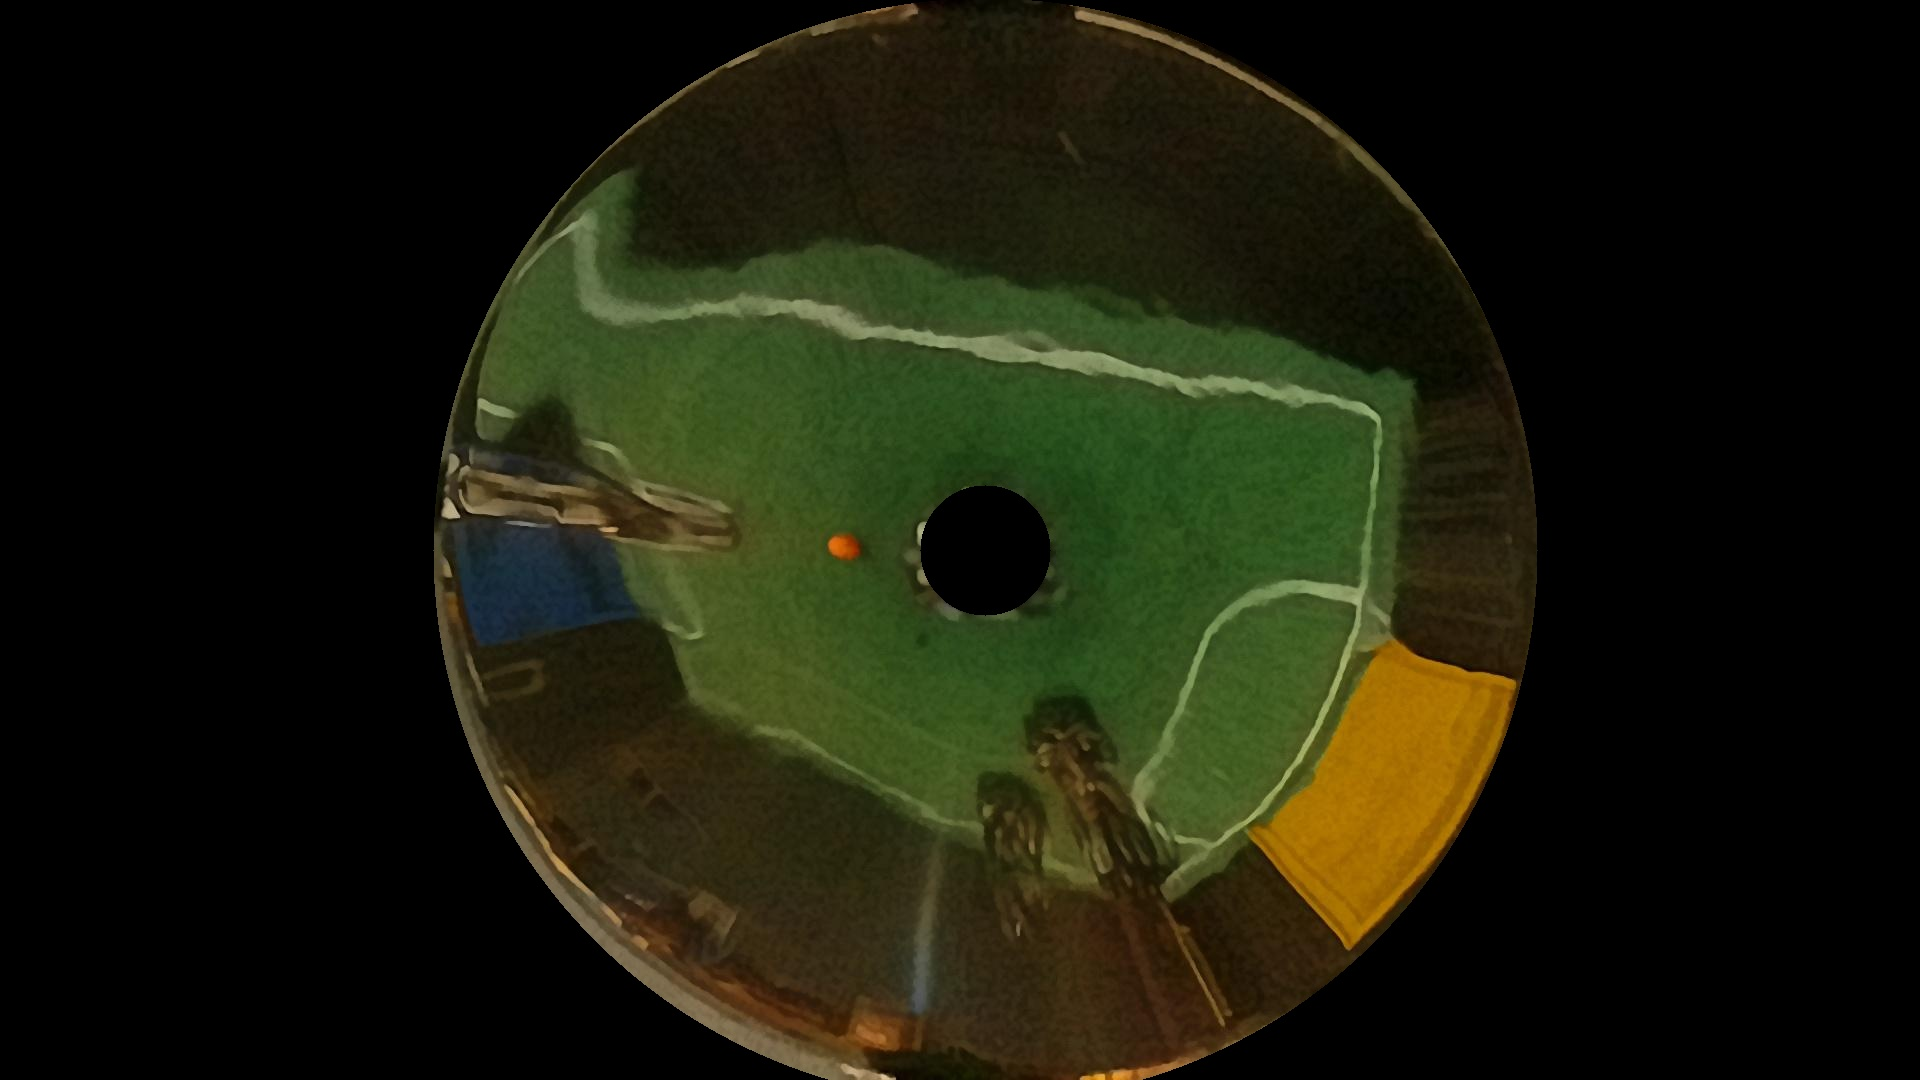ball: (827, 524, 858, 568)
blue-goal: (465, 493, 625, 633)
robots: (1013, 683, 1174, 897), (434, 459, 748, 551), (956, 778, 1073, 910)
yellow-goal: (1282, 612, 1489, 932)
